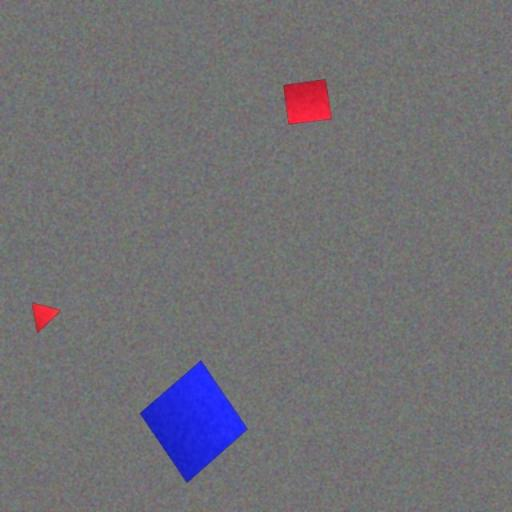BLUE_SQUARE: (139, 360, 249, 484)
RED_SQUARE: (282, 78, 333, 125)
